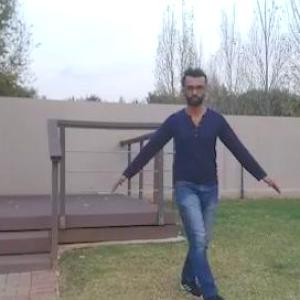land: (126, 69, 261, 299)
